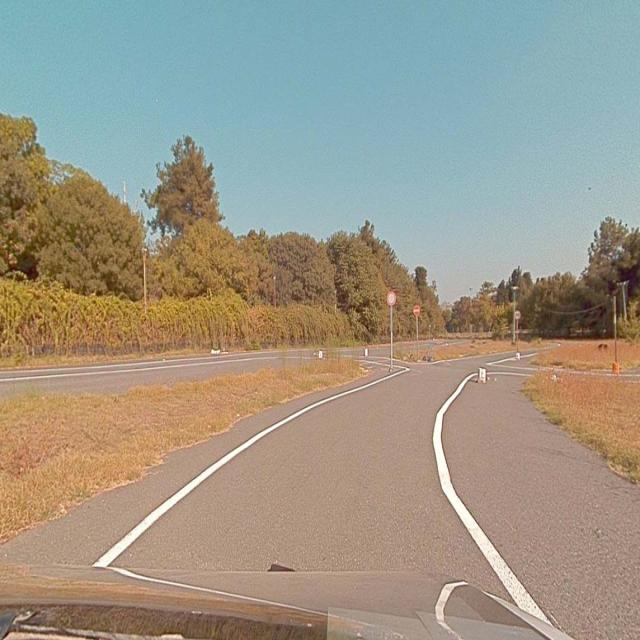girisyok: (413, 304, 420, 316)
